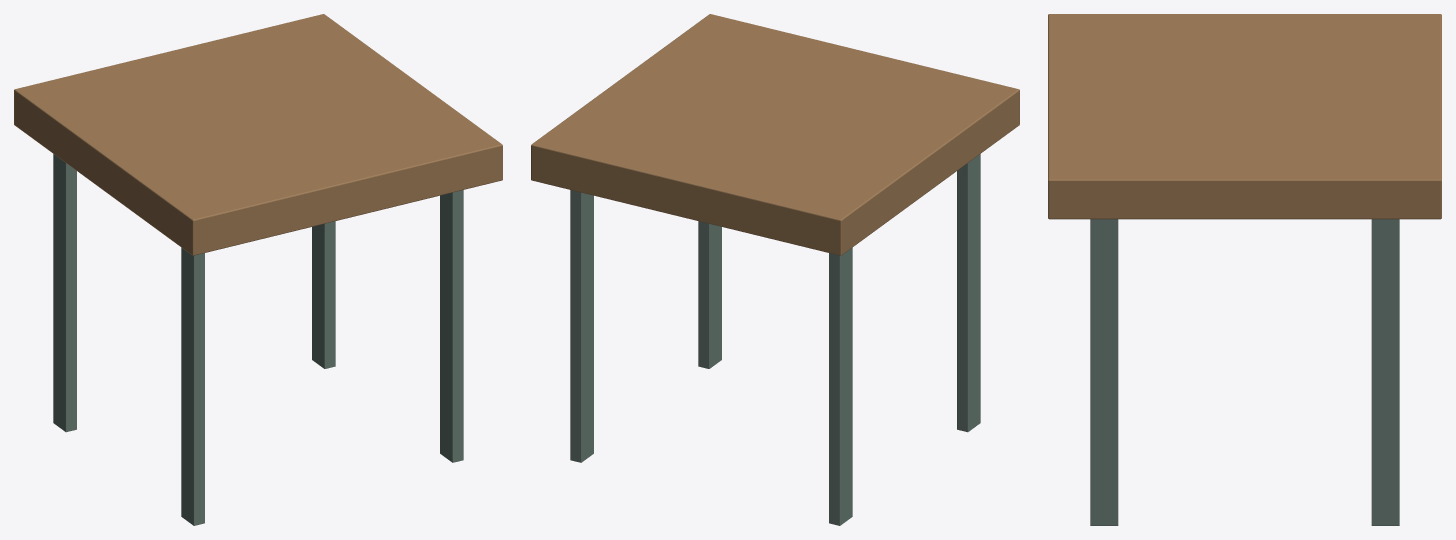
The model's file is open-table.glb.
The picture shows the model from 3 angles, left to right: view 1: azimuth 30°, elevation 25°; view 2: azimuth 150°, elevation 25°; view 3: azimuth 270°, elevation 25°; orthographic projection. The views are drawn at different scales.
Visible parts, largest first — view 1: Solid oak tabletop, Open table leg, Open table leg.002, Open table leg.001, Open table leg.003; view 2: Solid oak tabletop, Open table leg.001, Open table leg.003, Open table leg, Open table leg.002; view 3: Solid oak tabletop, Open table leg.002, Open table leg.003.
Part boxes in pixels (x1,y1,x2,y2): Solid oak tabletop: (14,14,502,255); Open table leg: (181,247,204,525); Open table leg.002: (440,190,463,462); Open table leg.001: (53,154,76,432); Open table leg.003: (312,221,335,368); Solid oak tabletop: (531,14,1019,255); Open table leg.001: (829,247,852,525); Open table leg.003: (570,190,593,462); Open table leg: (957,154,980,432); Open table leg.002: (698,221,721,368); Solid oak tabletop: (1048,14,1441,219); Open table leg.002: (1090,219,1118,525); Open table leg.003: (1371,219,1399,525).
Bounding box in the file's own units: 1 × 1 × 1.
